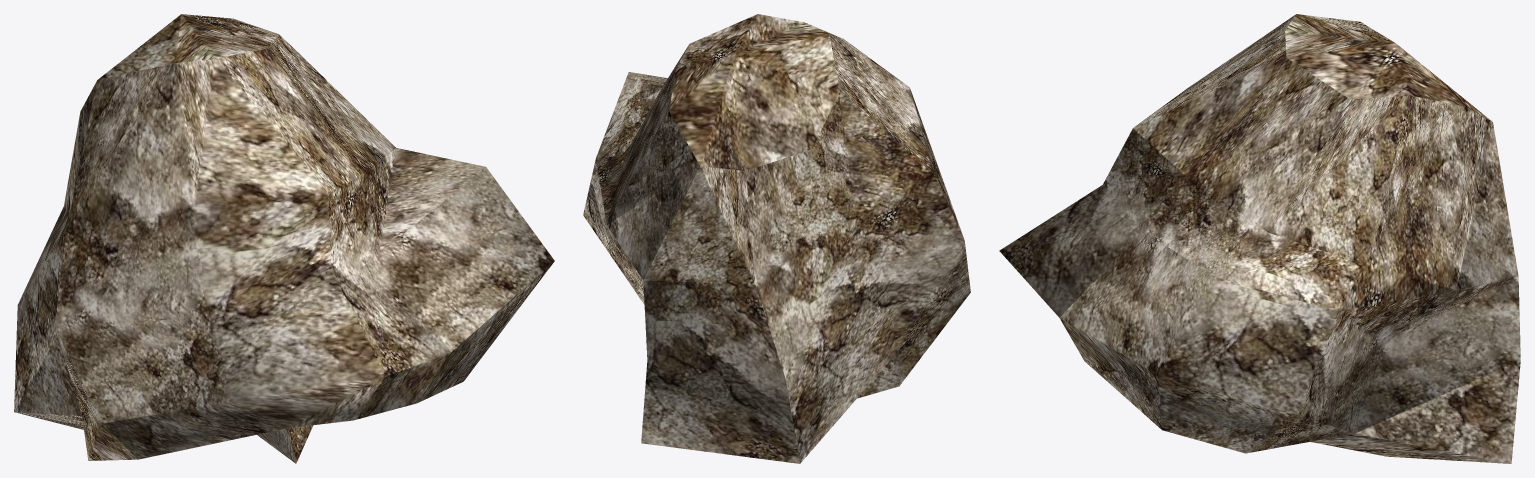
The picture shows the model from 3 angles, left to right: view 1: azimuth 30°, elevation 25°; view 2: azimuth 150°, elevation 25°; view 3: azimuth 270°, elevation 25°; orthographic projection. The views are drawn at different scales.
Parts seen in each view (by area): view 1: Object64, Object55, Object56, nder40, Object06, Object85; view 2: Object55, Object02, nder40, Object06, Object56, Object64; view 3: Object56, Object06, Object02, Object64, Object55.
Part boxes in pixels (<box>): Object64: <box>55,175,450,459</box>; Object55: <box>64,14,363,230</box>; Object56: <box>363,148,554,403</box>; nder40: <box>14,206,137,460</box>; Object06: <box>182,14,395,174</box>; Object85: <box>257,425,313,463</box>; Object55: <box>700,14,932,284</box>; Object02: <box>607,166,799,463</box>; nder40: <box>755,174,970,463</box>; Object06: <box>607,14,757,224</box>; Object56: <box>583,72,667,304</box>; Object64: <box>910,89,963,238</box>; Object56: <box>1059,173,1455,453</box>; Object06: <box>1183,43,1492,289</box>; Object02: <box>1310,123,1520,463</box>; Object64: <box>999,128,1181,317</box>; Object55: <box>1133,14,1395,172</box>.
Size of the model in its own units: 219 by 193 by 228.
1 material, 1 textured.
